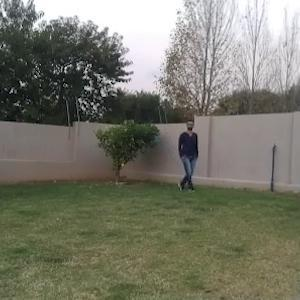follow: (179, 120, 197, 193)
